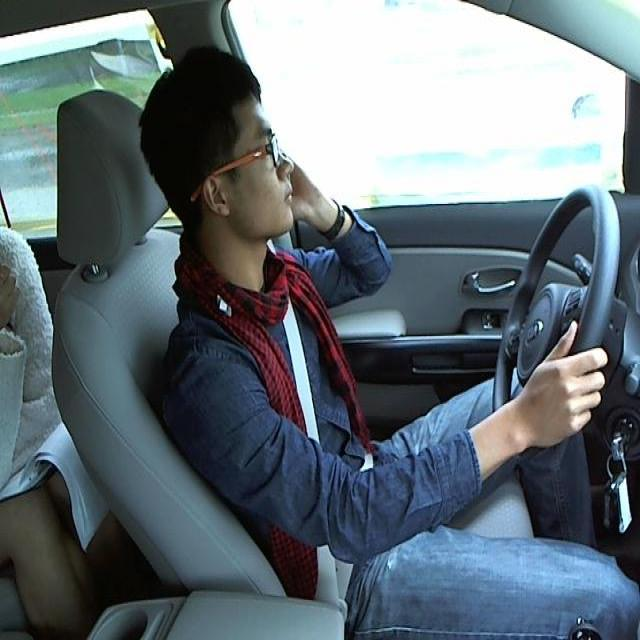using_phone: (110, 30, 367, 279)
